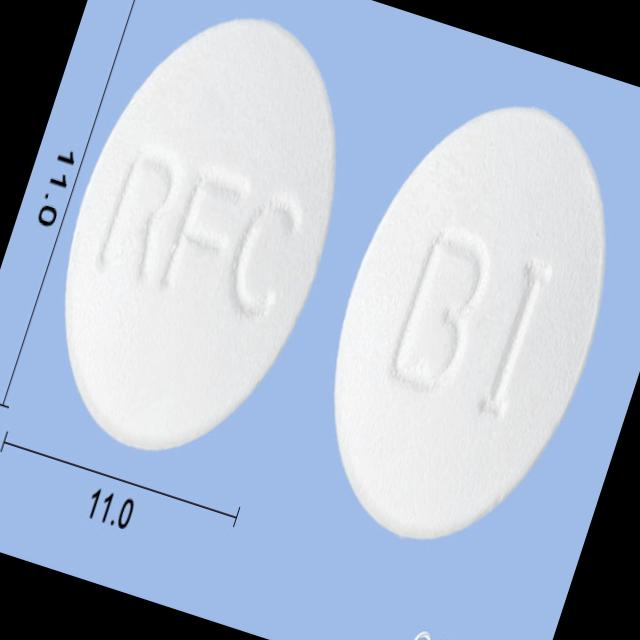Rofsin Tab: (13, 0, 385, 487), (284, 69, 640, 574)
